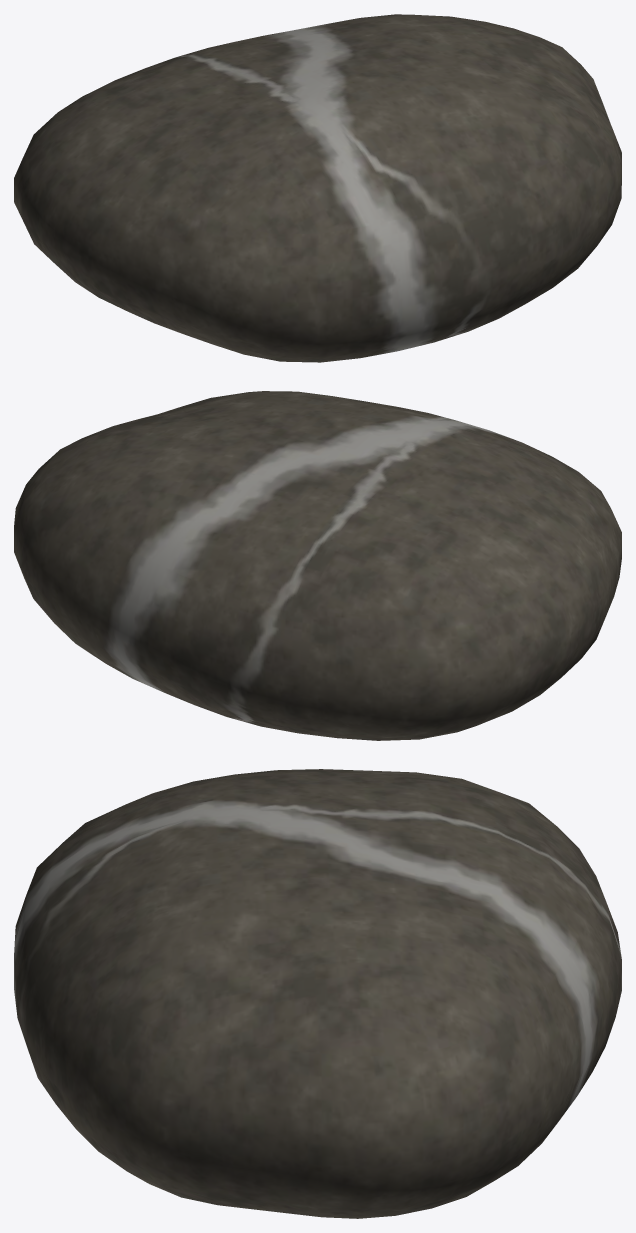
The model's file is quartz_cobble_04.glb.
3 views of the same model, one above another, from view 1: azimuth 30°, elevation 25°; view 2: azimuth 150°, elevation 25°; view 3: azimuth 270°, elevation 25° (orthographic). The views are drawn at different scales.
Parts seen in each view (by area): view 1: quartz_cobble_04; view 2: quartz_cobble_04; view 3: quartz_cobble_04.
Part boxes in pixels (x1,y1,x2,y2): quartz_cobble_04: (14,14,621,362); quartz_cobble_04: (14,391,621,740); quartz_cobble_04: (14,769,621,1218).
Size of the model in its own units: 0.0696 by 0.0303 by 0.055.
Materials: 1 (1 with a texture image).
